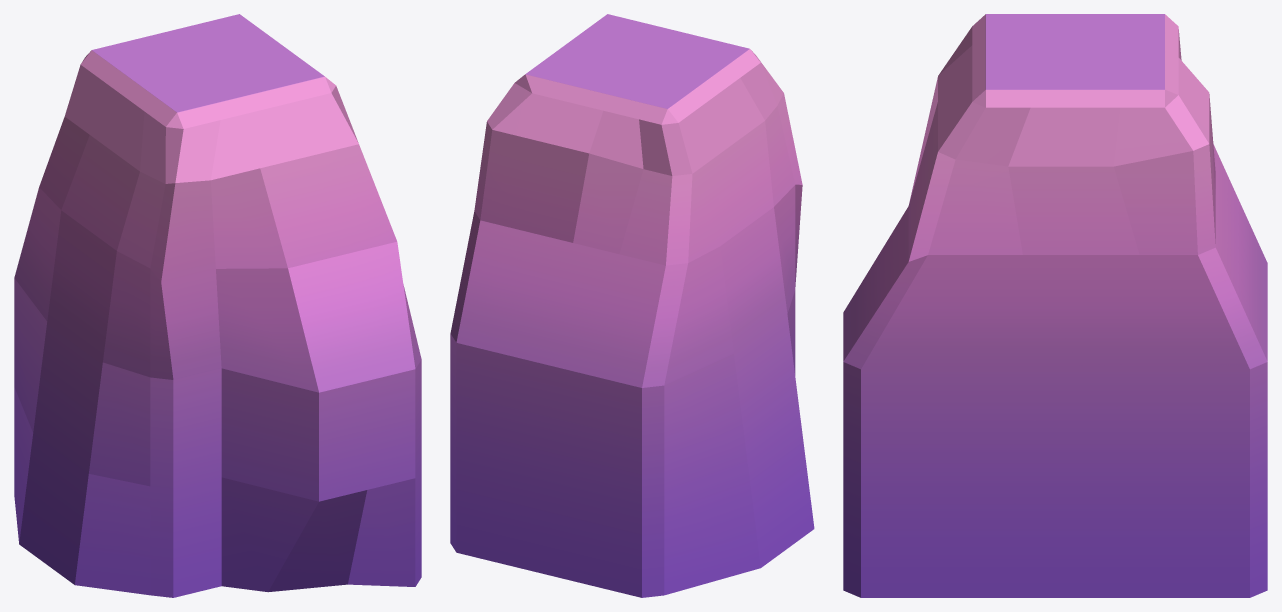
Rendered from Terrain_1.FBX.
3 views of the same model, side by side, from view 1: azimuth 30°, elevation 25°; view 2: azimuth 150°, elevation 25°; view 3: azimuth 270°, elevation 25° (orthographic). The views are drawn at different scales.
Visible parts, largest first — view 1: Mounatin 01; view 2: Mounatin 01; view 3: Mounatin 01.
Boxes of the visible parts, bbox=[...] form: Mounatin 01: bbox=[14, 14, 421, 597]; Mounatin 01: bbox=[450, 14, 814, 597]; Mounatin 01: bbox=[843, 14, 1267, 597].
Size of the model in its own units: 1947 by 3325 by 2530.
1 material, 1 textured.
